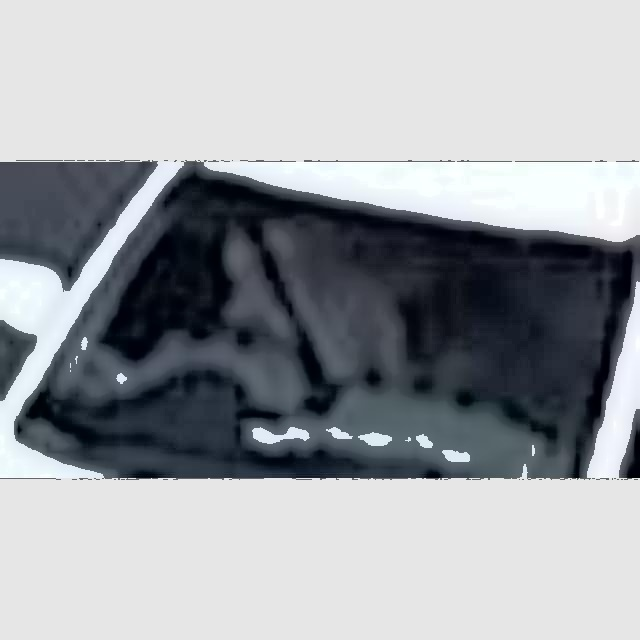pakai: (184, 213, 412, 405)
